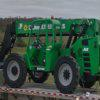Tractor: (8, 13, 100, 100)
